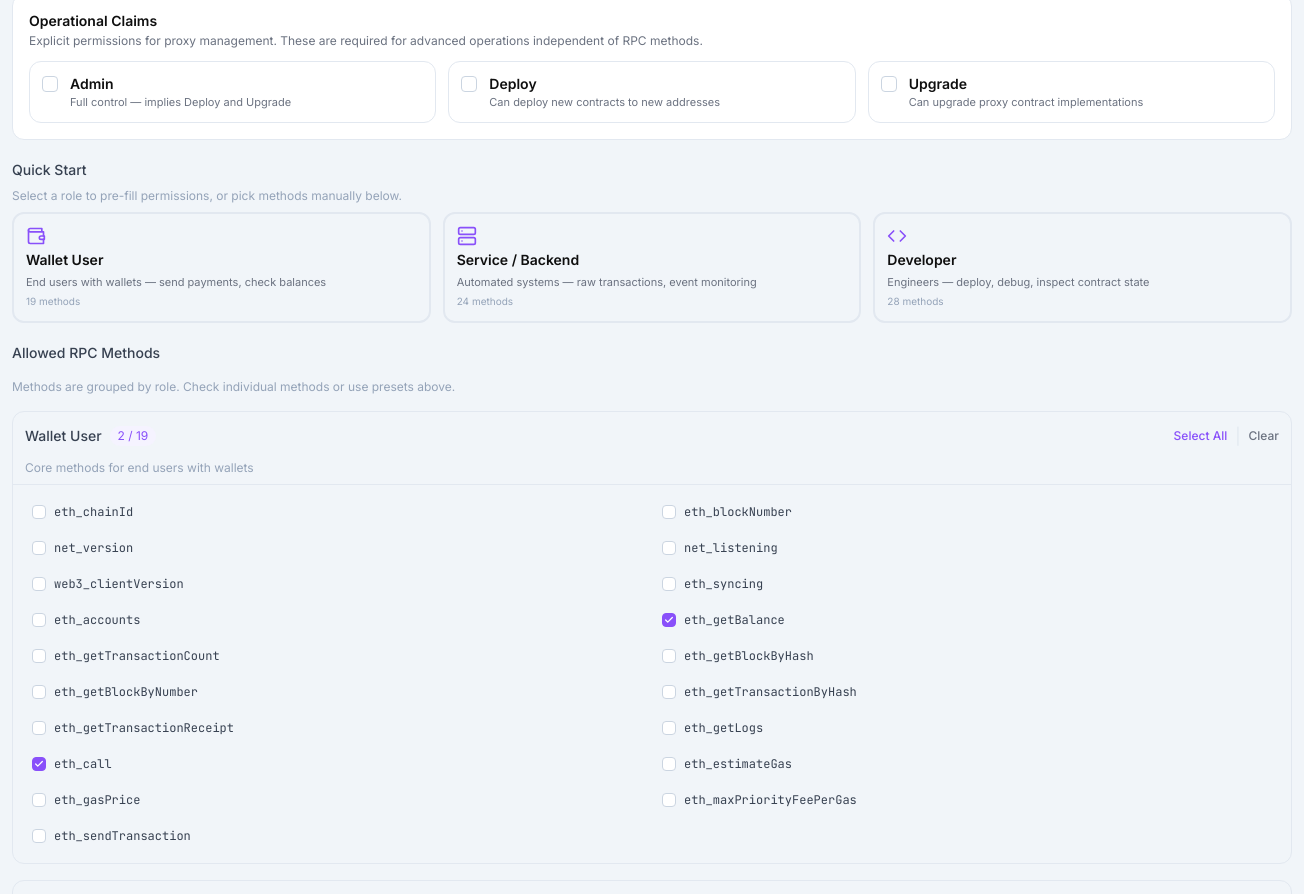
GroupAccessForm › Preset Cards › clicking Developer preset selects all 3 sections fully
expect the text "Quick Start" is shown: met, box left=12, top=161, right=87, bottom=178
Click the button that starts with "Developer" at (922, 259), box left=873, top=212, right=1292, bottom=323
(page scrolled)
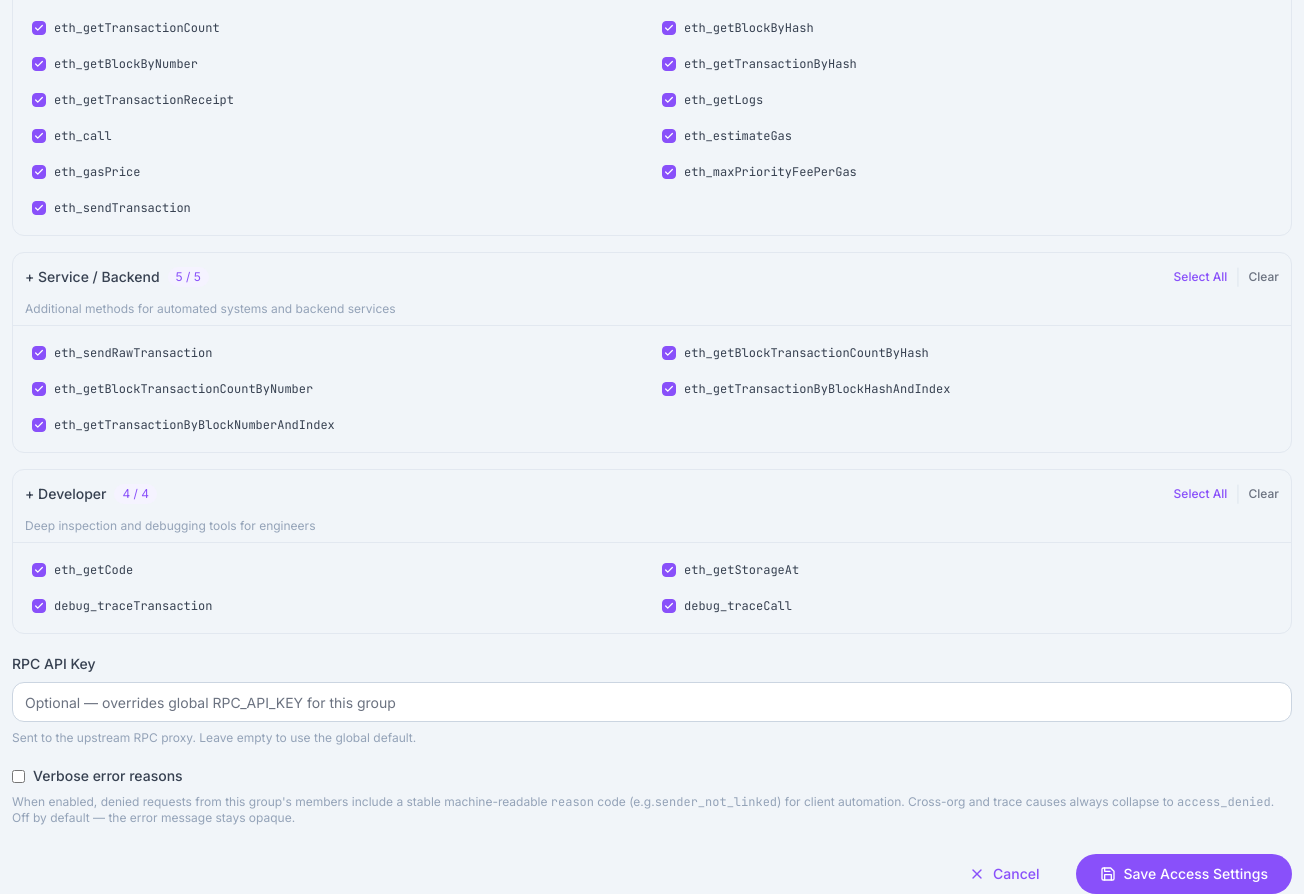
expect the text "4 / 4" is shown: met, box left=114, top=484, right=157, bottom=504
